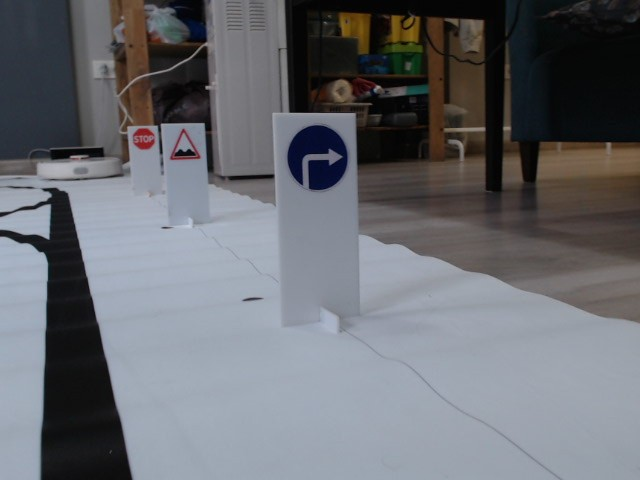Nerov: (168, 128, 201, 160)
Right: (286, 122, 349, 192)
Stop: (132, 128, 156, 149)
